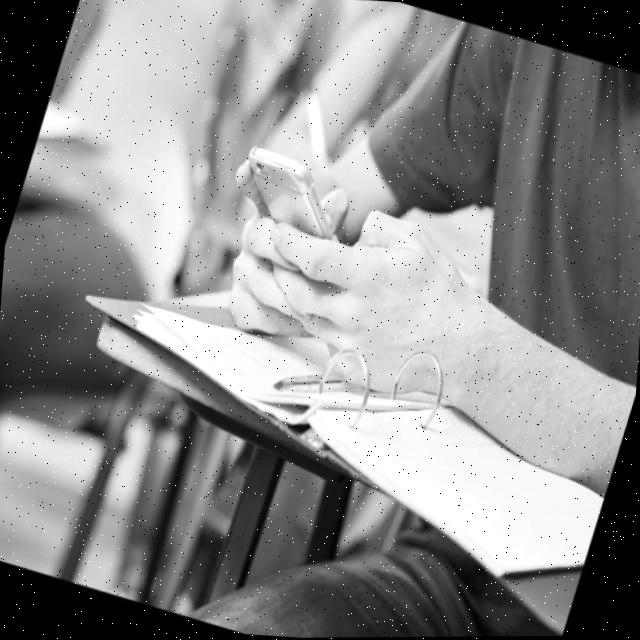phone: (204, 132, 385, 325)
